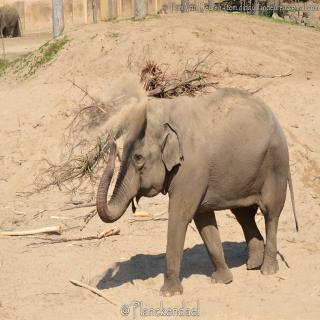Elephant: (96, 85, 300, 299)
